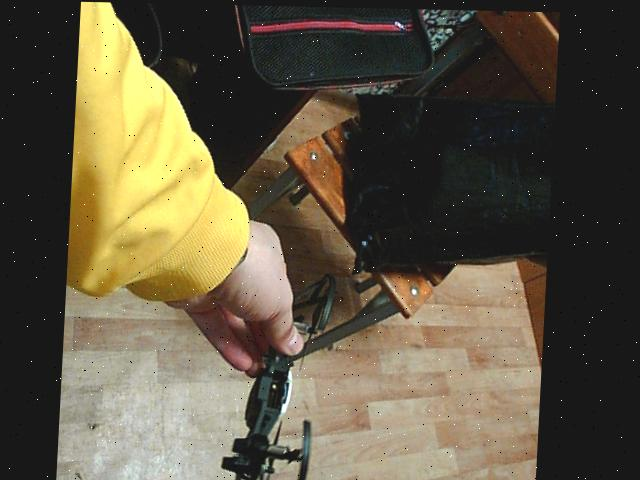drone: (211, 261, 356, 480)
